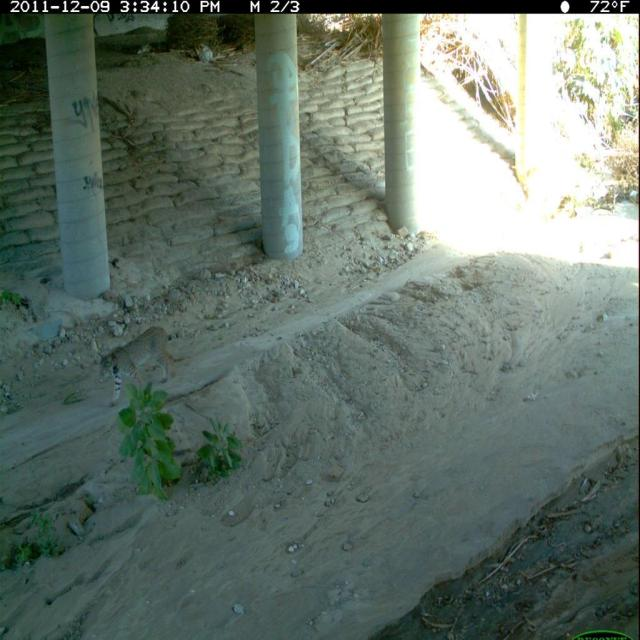bobcat: (97, 322, 179, 413)
